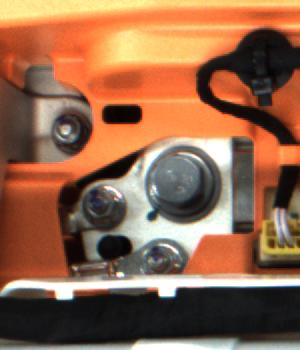nut_b: (145, 136, 222, 232)
screw_s: (44, 107, 90, 155), (81, 184, 128, 225), (137, 244, 186, 276)
